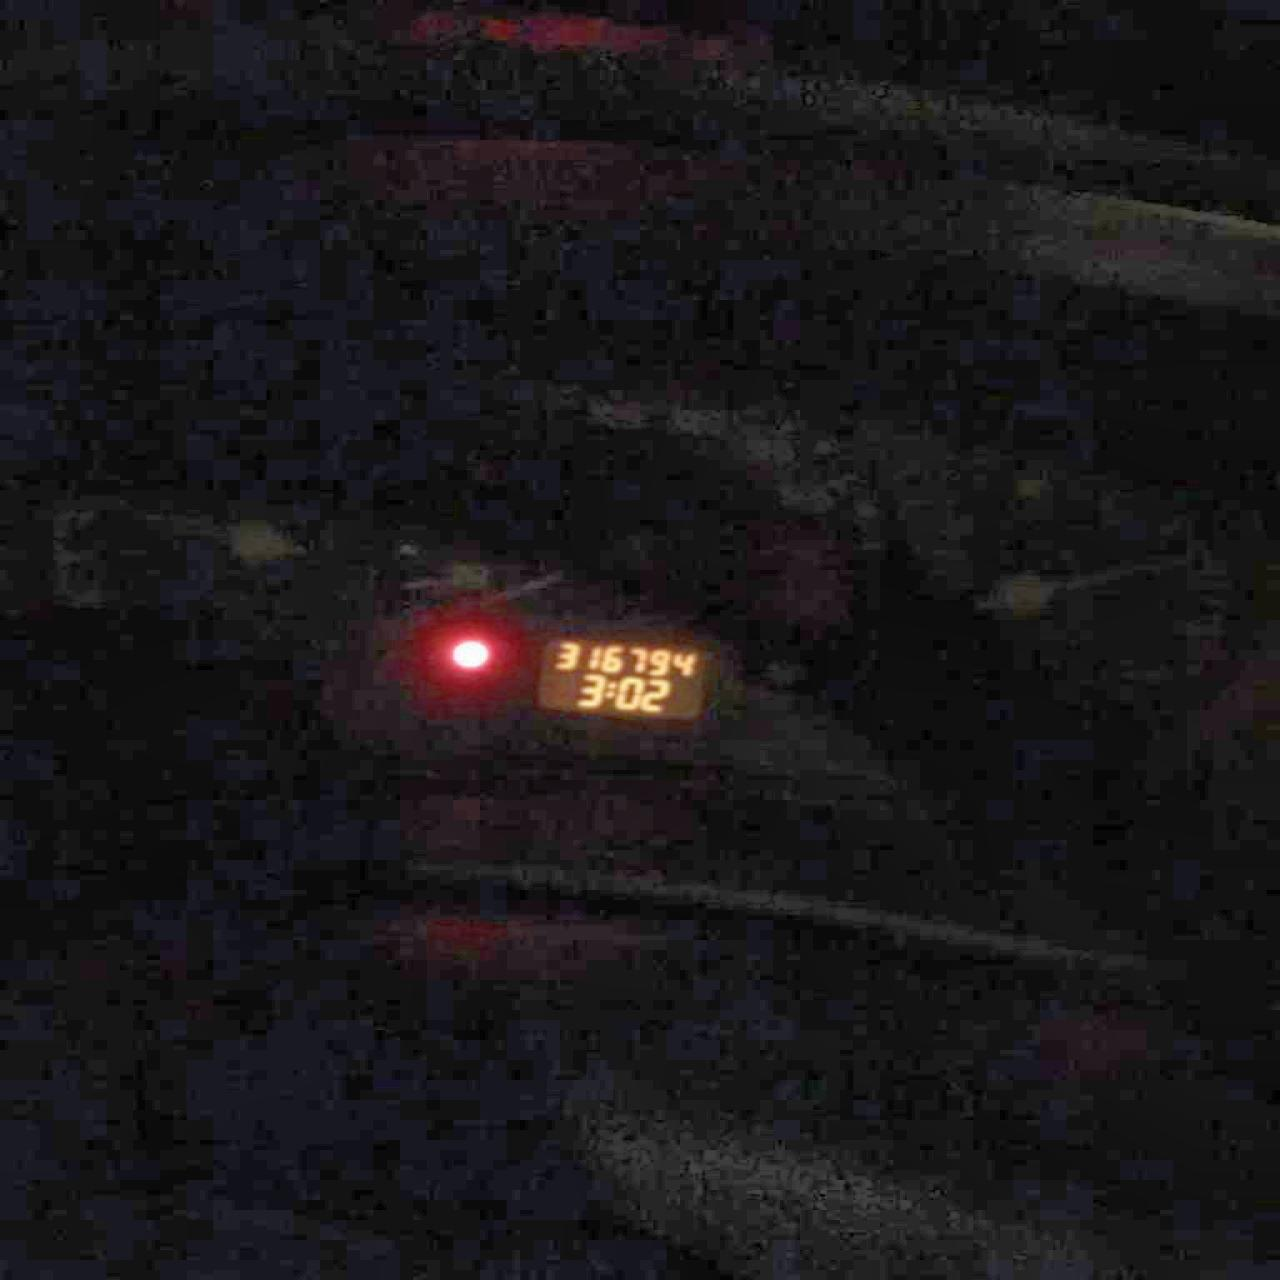0: (615, 674, 641, 710)
1: (585, 642, 598, 669)
2: (641, 678, 672, 713)
3: (578, 672, 601, 709), (553, 640, 579, 669)
4: (672, 651, 699, 678)
6: (601, 644, 624, 673)
7: (628, 645, 647, 674)
9: (648, 647, 668, 675)
X: (605, 679, 615, 700)
odometer: (529, 633, 710, 719)
